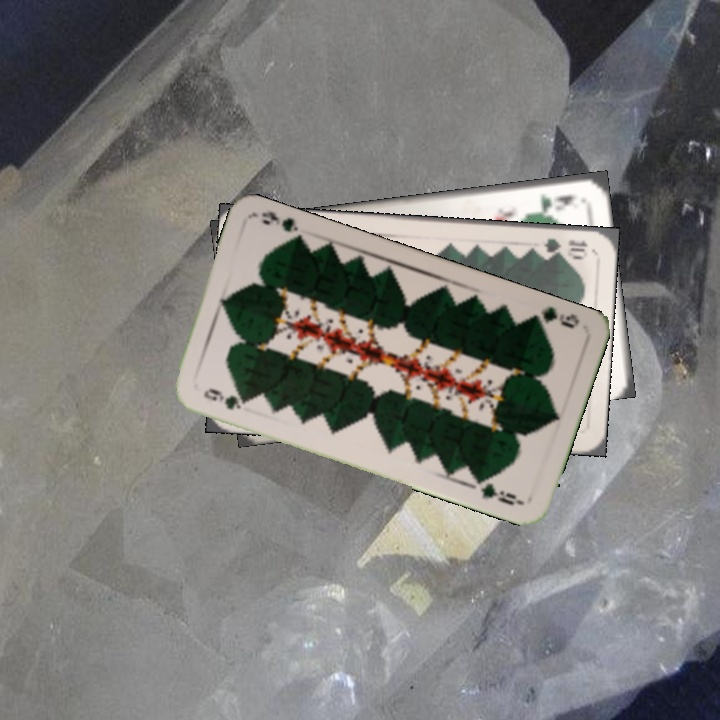G10: (540, 234, 591, 259)
G9: (524, 302, 582, 332), (199, 384, 252, 412)
GK: (536, 189, 580, 213)
